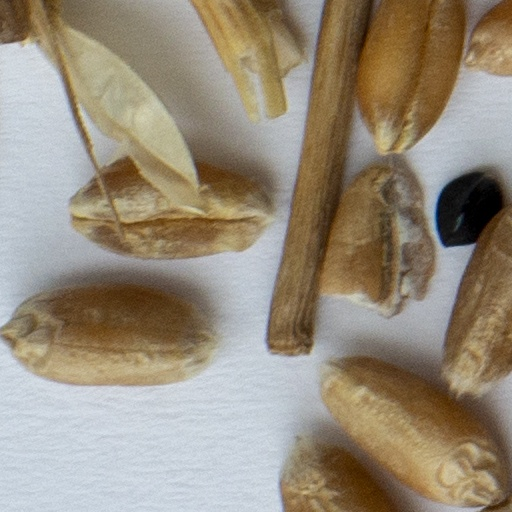Fallopia-Сonvolvulus-poly: (438, 173, 501, 245)
Wheat-grain-damaged-poly: (315, 150, 442, 322)
